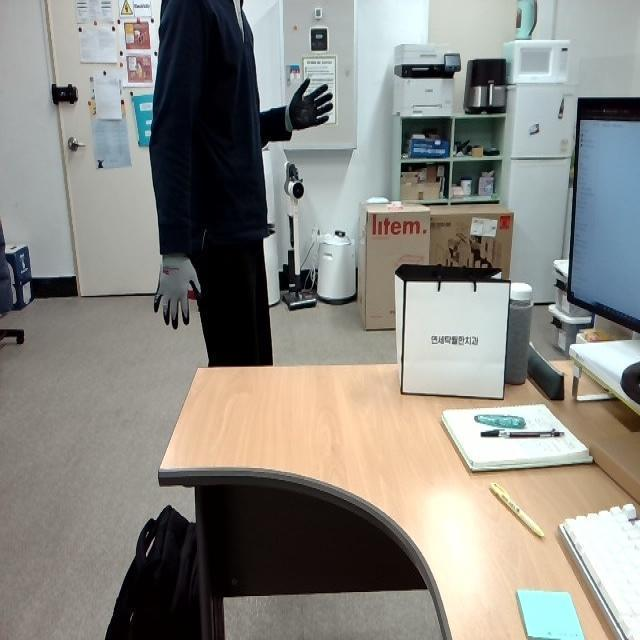gloved_hand: (146, 247, 206, 330), (285, 74, 335, 142)
